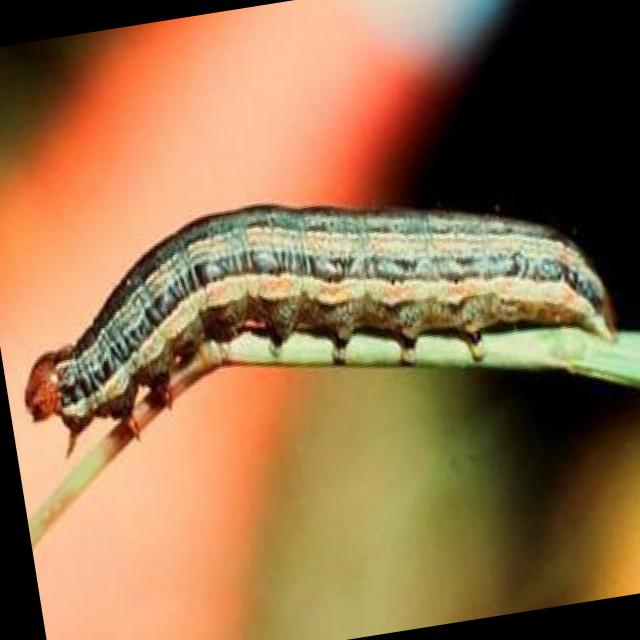armyworm: (1, 137, 633, 486)
